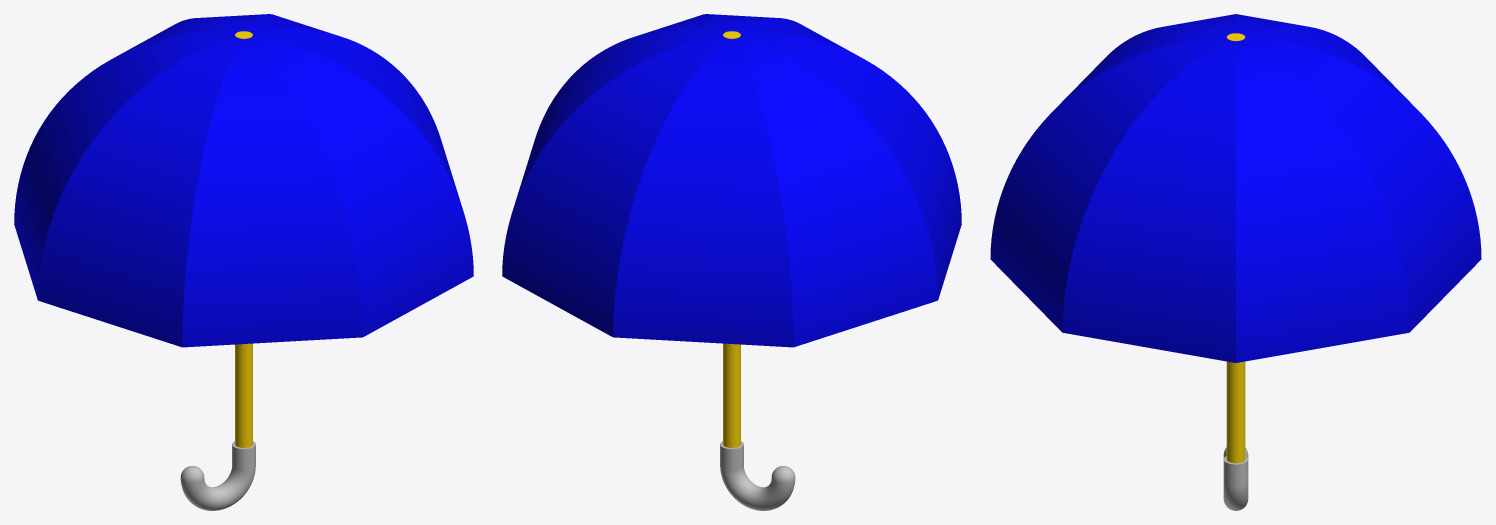
The model's file is umbrella.glb.
The picture shows the model from 3 angles, left to right: view 1: azimuth 30°, elevation 25°; view 2: azimuth 150°, elevation 25°; view 3: azimuth 270°, elevation 25°; orthographic projection. The views are drawn at different scales.
Parts seen in each view (by area): view 1: tent, hand2, hand; view 2: tent, hand2, hand; view 3: tent, hand, hand2.
Part boxes in pixels (left/top/right/bottom): tent: left=14, top=14, right=473, bottom=347; hand2: left=180, top=441, right=255, bottom=510; hand: left=235, top=31, right=252, bottom=447; tent: left=502, top=14, right=961, bottom=347; hand2: left=720, top=441, right=795, bottom=510; hand: left=723, top=31, right=740, bottom=447; tent: left=990, top=14, right=1481, bottom=362; hand: left=1226, top=33, right=1245, bottom=463; hand2: left=1223, top=447, right=1248, bottom=510.
Bounding box in the file's own units: 8.01 × 8.69 × 8.01.
